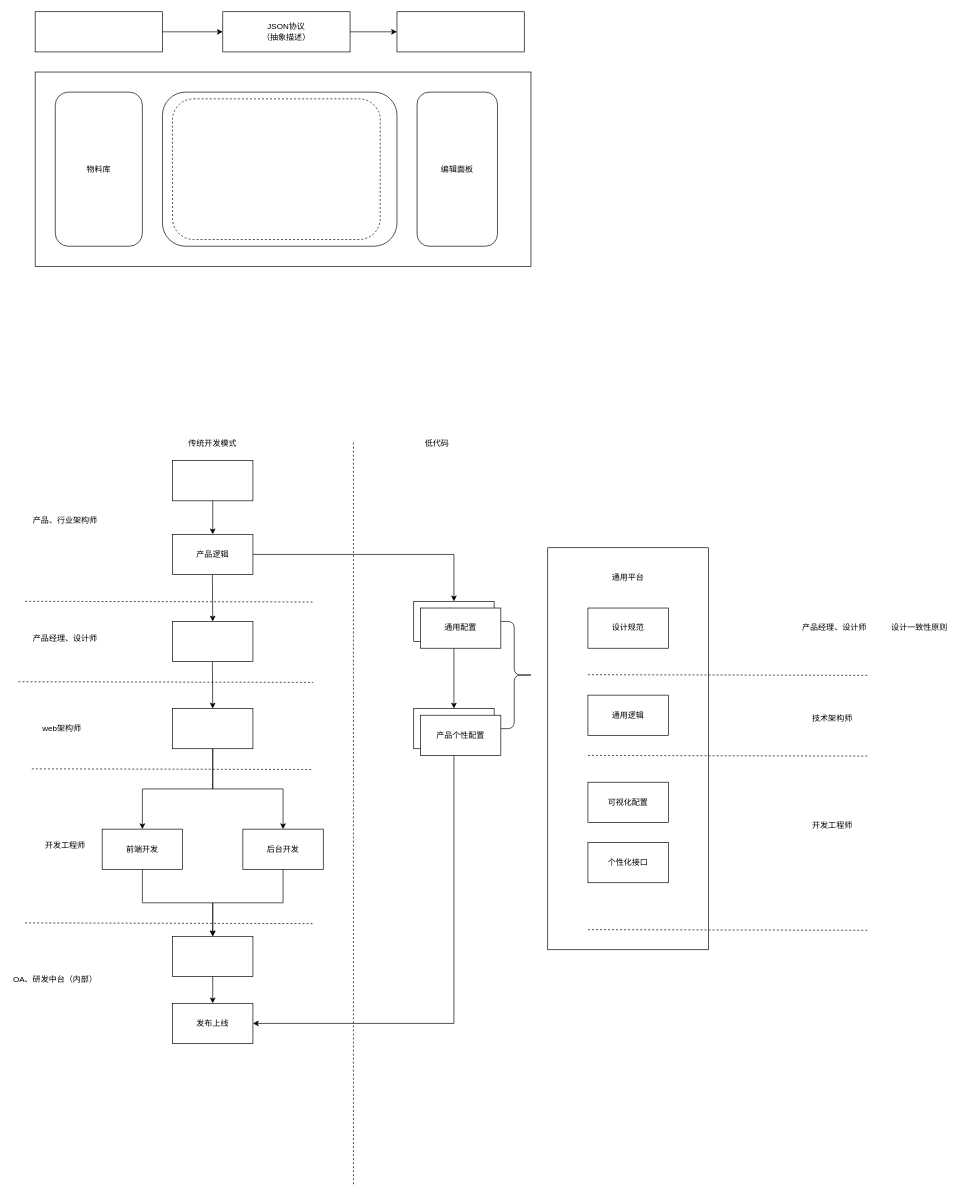
The diagram is 967 pixels wide and 1197 high, and some of its shapes have lost their labels. The shapes that lost their labels are listed below. From the top down, each one's box as (x1, y1, x2, y2) in pixels, then its label:
(35, 11, 162, 52): IDE （功能引用、布局配置、属性配置）
(396, 11, 524, 52): 页面 （渲染还原）
(172, 98, 380, 240): 渲染引擎
(172, 460, 253, 501): 概念架构
(172, 621, 253, 662): 设计落地
(172, 708, 253, 749): 技术架构
(172, 936, 253, 977): 测试
